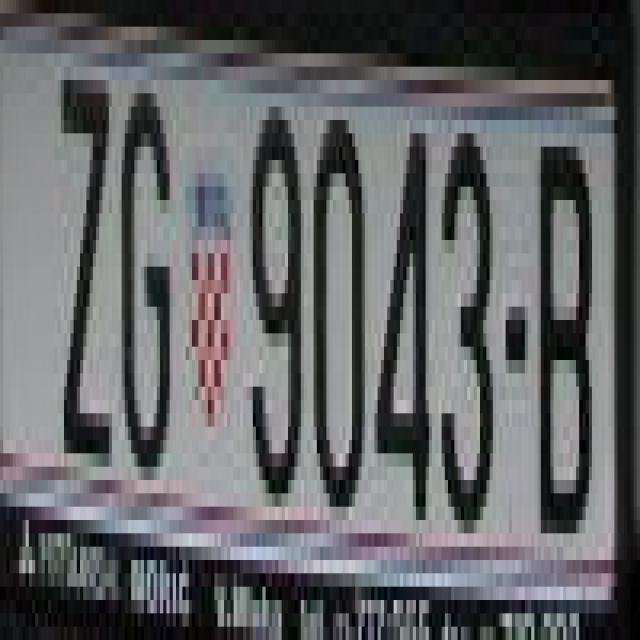0: (310, 93, 368, 507)
3: (438, 106, 496, 534)
4: (374, 106, 438, 546)
9: (243, 93, 310, 507)
B: (531, 93, 602, 547)
G: (118, 54, 176, 494)
Z: (48, 54, 115, 454)
